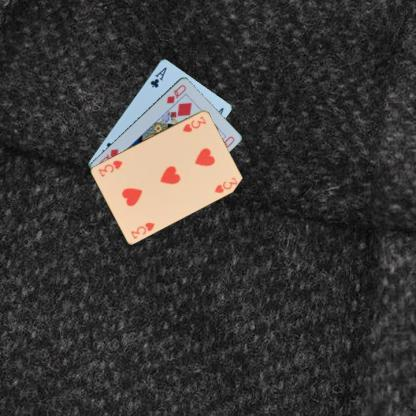3h: (128, 219, 156, 240), (180, 113, 207, 134)
Ac: (147, 64, 168, 89)
Qd: (164, 82, 187, 105)
